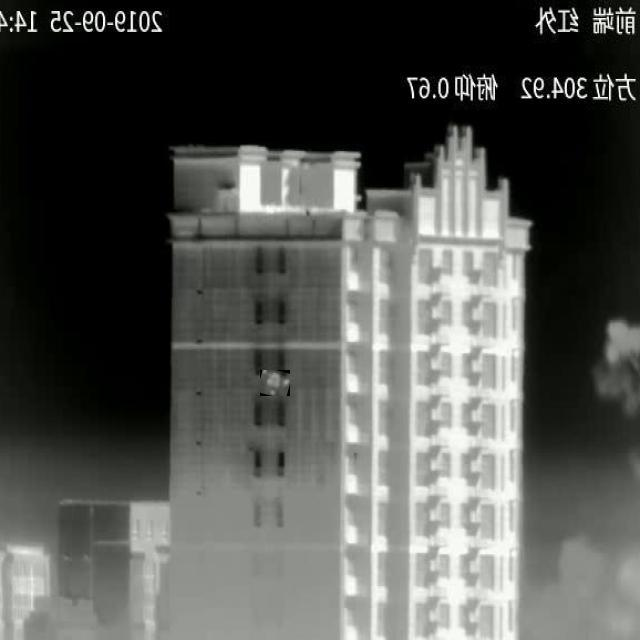drone: (262, 370, 290, 396)
